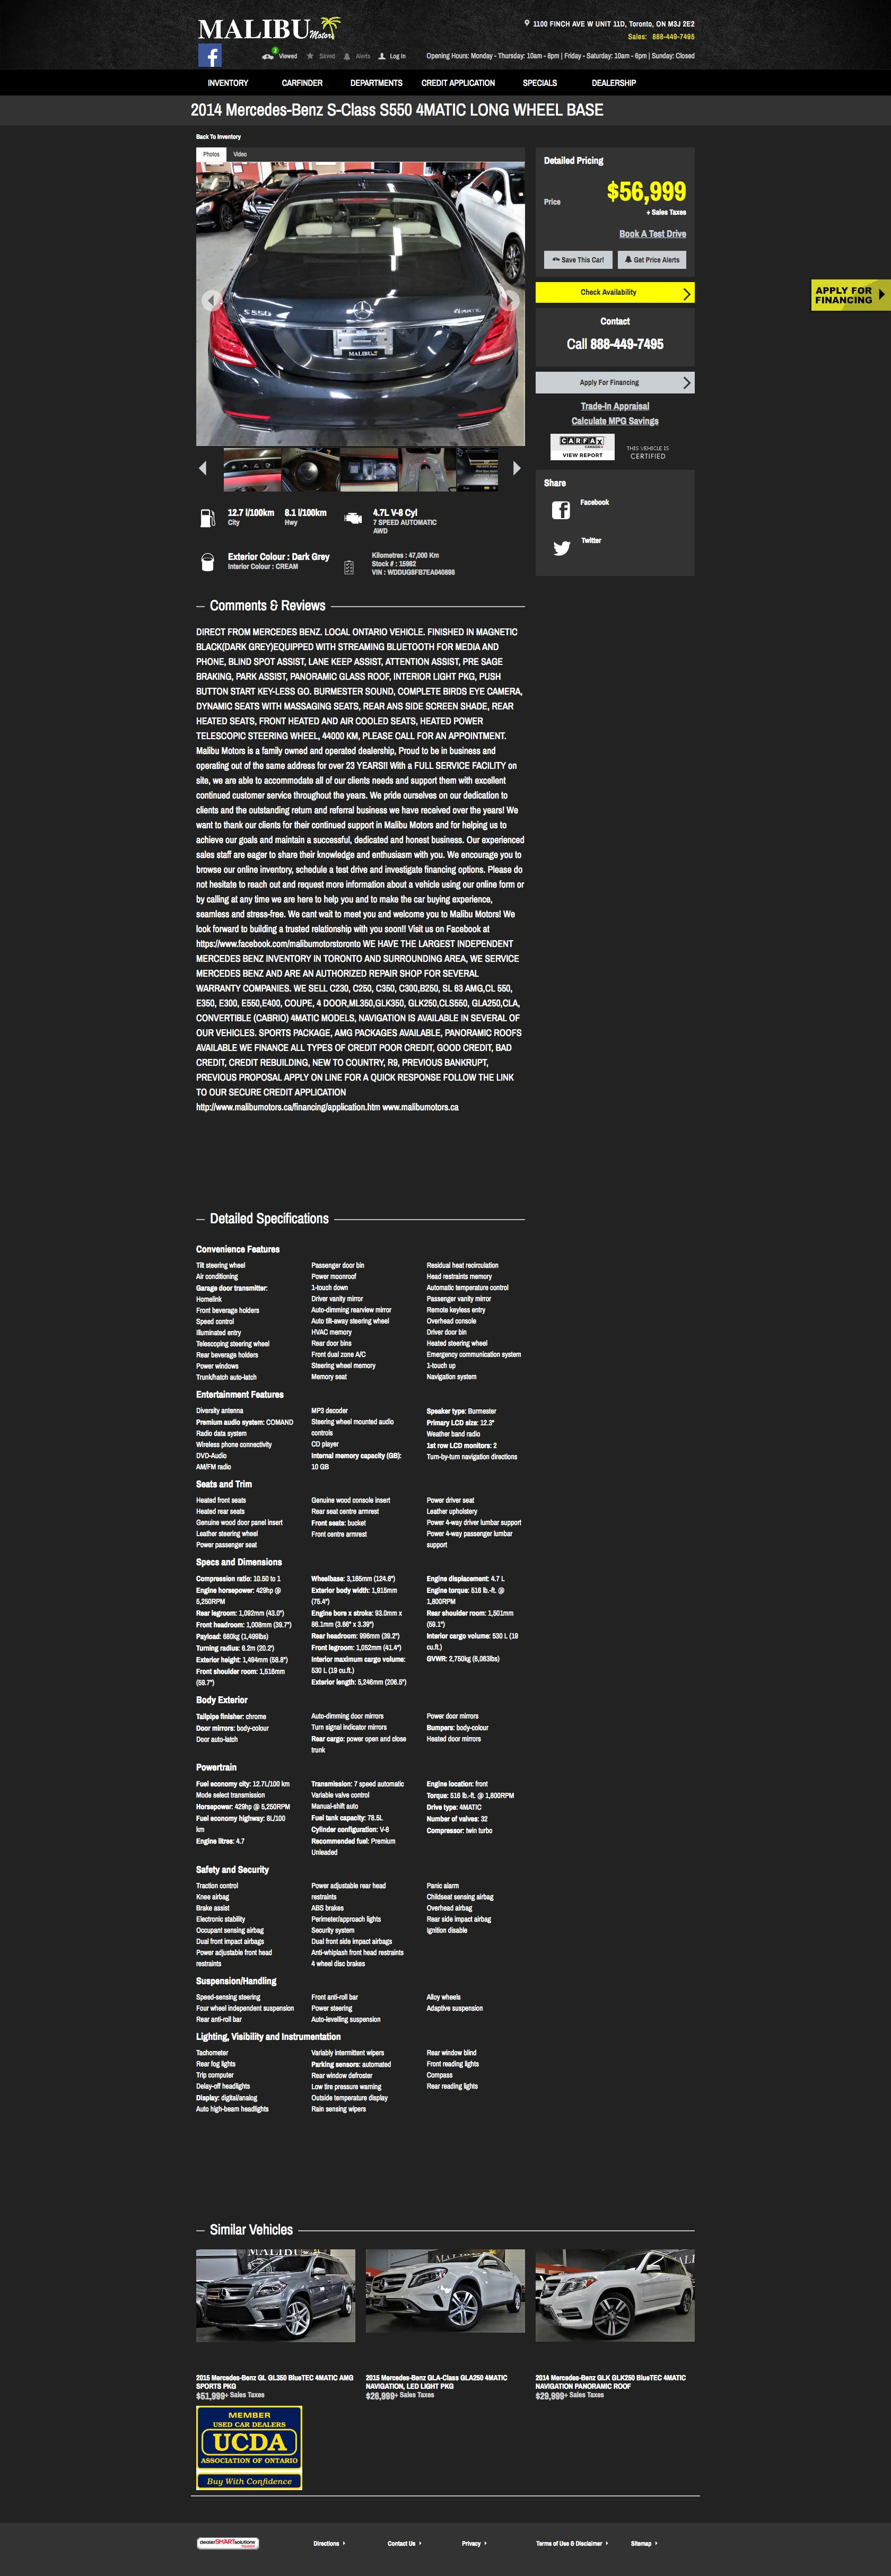car: (513, 460, 521, 476)
